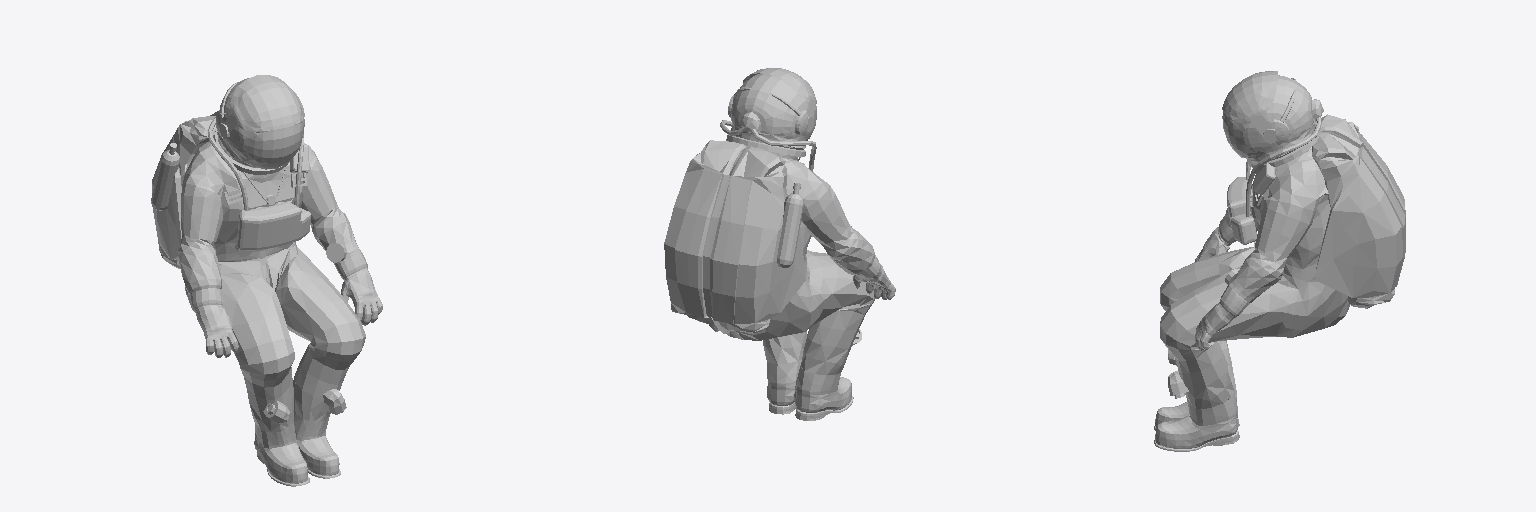
The model's file is man.obj.
The picture shows the model from 3 angles: view 1: azimuth 30°, elevation 25°; view 2: azimuth 150°, elevation 25°; view 3: azimuth 270°, elevation 25°; orthographic projection.
Visible parts, largest first — view 1: Mesh40 skpqZW091_1 Model, Mesh22 skpqZW091_1 Model, Mesh41 skpqZW091_1 Model, Mesh14 skpqZW091_1 Model, Mesh21 skpqZW091_1 Model, Mesh43 skpqZW091_1 Model, Mesh45 skpqZW091_1 Model, Mesh44 skpqZW091_1 Model, Mesh42 skpqZW091_1 Model, Mesh1 skpqZW091_1 Model, Mesh26 skpqZW091_1 Model; view 2: Mesh41 skpqZW091_1 Model, Mesh40 skpqZW091_1 Model, Mesh26 skpqZW091_1 Model, Mesh43 skpqZW091_1 Model, Mesh42 skpqZW091_1 Model, Mesh1 skpqZW091_1 Model, Mesh45 skpqZW091_1 Model, Mesh22 skpqZW091_1 Model; view 3: Mesh40 skpqZW091_1 Model, Mesh41 skpqZW091_1 Model, Mesh42 skpqZW091_1 Model, Mesh26 skpqZW091_1 Model, Mesh22 skpqZW091_1 Model, Mesh44 skpqZW091_1 Model, Mesh14 skpqZW091_1 Model, Mesh21 skpqZW091_1 Model, Mesh45 skpqZW091_1 Model, Mesh8 skpqZW091_1 Model, Mesh43 skpqZW091_1 Model.
Boxes of the visible parts, box(x1,y1,x2,y2) form: Mesh40 skpqZW091_1 Model: box(177, 142, 365, 431); Mesh22 skpqZW091_1 Model: box(223, 75, 304, 132); Mesh41 skpqZW091_1 Model: box(152, 111, 218, 268); Mesh14 skpqZW091_1 Model: box(237, 201, 310, 250); Mesh21 skpqZW091_1 Model: box(227, 119, 304, 169); Mesh43 skpqZW091_1 Model: box(254, 421, 309, 486); Mesh45 skpqZW091_1 Model: box(190, 288, 238, 357); Mesh44 skpqZW091_1 Model: box(334, 249, 382, 325); Mesh42 skpqZW091_1 Model: box(294, 413, 340, 478); Mesh1 skpqZW091_1 Model: box(151, 143, 179, 210); Mesh26 skpqZW091_1 Model: box(214, 78, 289, 174); Mesh41 skpqZW091_1 Model: box(664, 140, 805, 333); Mesh40 skpqZW091_1 Model: box(726, 152, 875, 374); Mesh26 skpqZW091_1 Model: box(726, 73, 809, 156); Mesh43 skpqZW091_1 Model: box(794, 362, 853, 420); Mesh42 skpqZW091_1 Model: box(767, 360, 801, 414); Mesh1 skpqZW091_1 Model: box(777, 183, 803, 267); Mesh45 skpqZW091_1 Model: box(853, 255, 895, 299); Mesh22 skpqZW091_1 Model: box(743, 68, 816, 117); Mesh40 skpqZW091_1 Model: box(1160, 147, 1349, 408); Mesh41 skpqZW091_1 Model: box(1312, 114, 1405, 308); Mesh42 skpqZW091_1 Model: box(1154, 391, 1239, 451); Mesh26 skpqZW091_1 Model: box(1246, 75, 1323, 169); Mesh22 skpqZW091_1 Model: box(1222, 71, 1277, 136); Mesh44 skpqZW091_1 Model: box(1195, 284, 1249, 350); Mesh14 skpqZW091_1 Model: box(1227, 177, 1256, 244); Mesh21 skpqZW091_1 Model: box(1222, 113, 1268, 157); Mesh45 skpqZW091_1 Model: box(1195, 216, 1236, 261); Mesh8 skpqZW091_1 Model: box(1246, 117, 1321, 216); Mesh43 skpqZW091_1 Model: box(1154, 378, 1239, 430).
Size of the model in its own units: 0.793 by 1.55 by 0.9779.